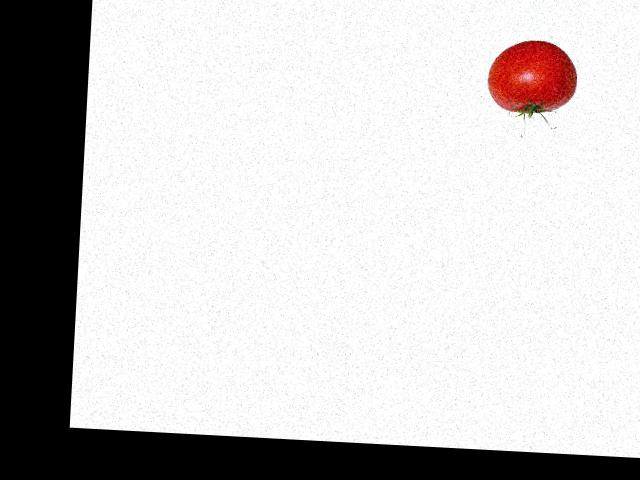tomato: (485, 37, 578, 115)
